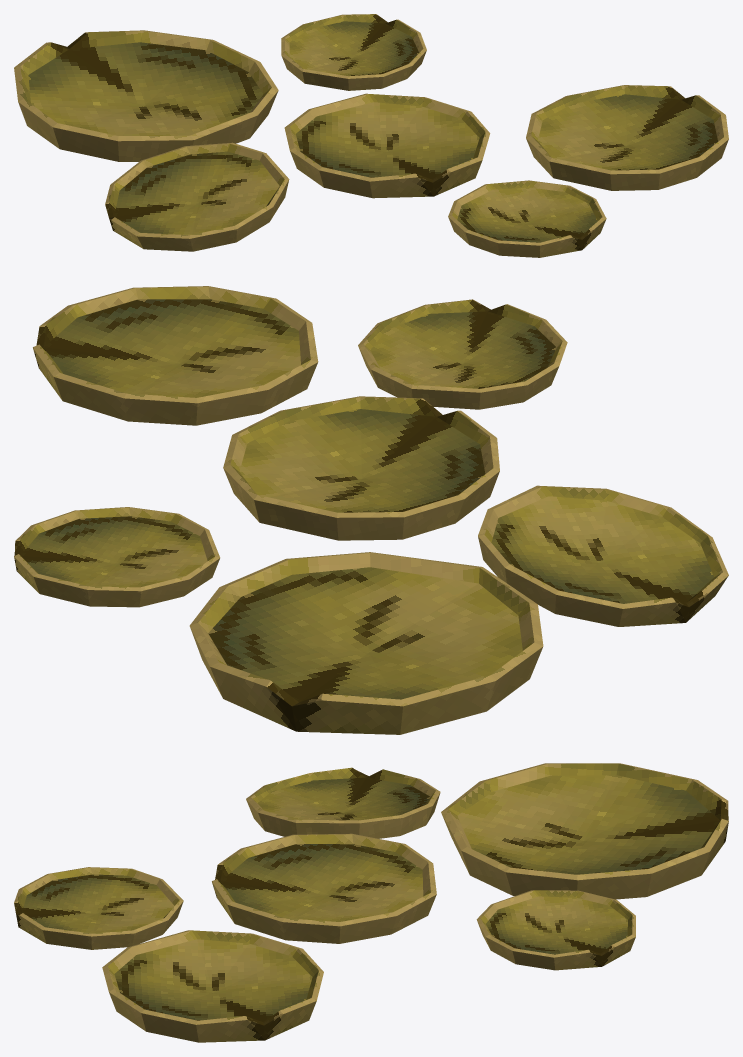
File: lilypads.glb
The picture shows the model from 3 angles, top to bottom: view 1: azimuth 30°, elevation 25°; view 2: azimuth 150°, elevation 25°; view 3: azimuth 270°, elevation 25°; orthographic projection. The views are drawn at different scales.
Visible parts, largest first — view 1: lilyPad_geo, lilyPad_geo.004, lilyPad_geo.002, lilyPad_geo.001, lilyPad_geo.005, lilyPad_geo.003; view 2: lilyPad_geo, lilyPad_geo.004, lilyPad_geo.002, lilyPad_geo.001, lilyPad_geo.005, lilyPad_geo.003; view 3: lilyPad_geo, lilyPad_geo.002, lilyPad_geo.004, lilyPad_geo.005, lilyPad_geo.001, lilyPad_geo.003.
Boxes of the visible parts, x1=… form: lilyPad_geo: x1=14, y1=30, x2=278, y2=161; lilyPad_geo.004: x1=526, y1=85, x2=728, y2=190; lilyPad_geo.002: x1=284, y1=93, x2=490, y2=198; lilyPad_geo.001: x1=105, y1=142, x2=289, y2=251; lilyPad_geo.005: x1=448, y1=180, x2=606, y2=257; lilyPad_geo.003: x1=281, y1=14, x2=426, y2=90; lilyPad_geo: x1=189, y1=552, x2=543, y2=734; lilyPad_geo.004: x1=33, y1=286, x2=318, y2=425; lilyPad_geo.002: x1=223, y1=396, x2=499, y2=540; lilyPad_geo.001: x1=478, y1=485, x2=728, y2=626; lilyPad_geo.005: x1=358, y1=299, x2=567, y2=409; lilyPad_geo.003: x1=14, y1=507, x2=220, y2=607; lilyPad_geo: x1=441, y1=763, x2=728, y2=899; lilyPad_geo.002: x1=212, y1=833, x2=436, y2=943; lilyPad_geo.004: x1=102, y1=930, x2=323, y2=1042; lilyPad_geo.005: x1=14, y1=867, x2=183, y2=949; lilyPad_geo.001: x1=246, y1=767, x2=440, y2=838; lilyPad_geo.003: x1=476, y1=890, x2=635, y2=970.
Bounding box in the file's own units: 0.1585 × 0.0138 × 0.1681.
1 material, 1 textured.
